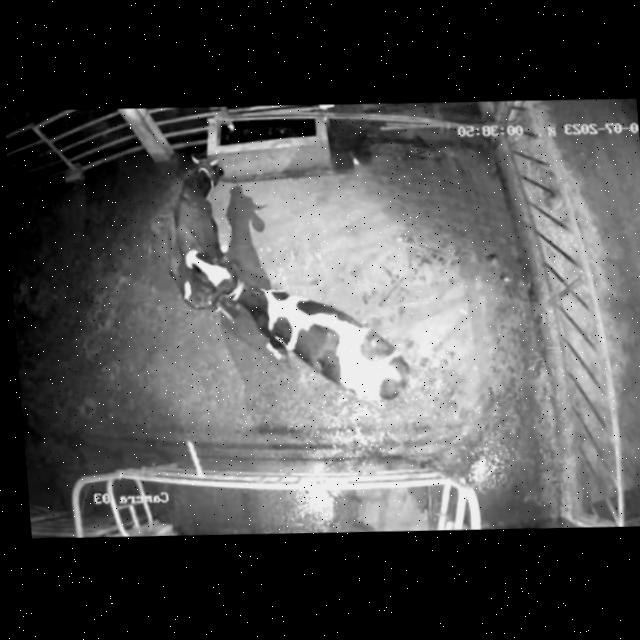propping: (160, 235, 282, 339)
stand: (149, 152, 242, 310)
